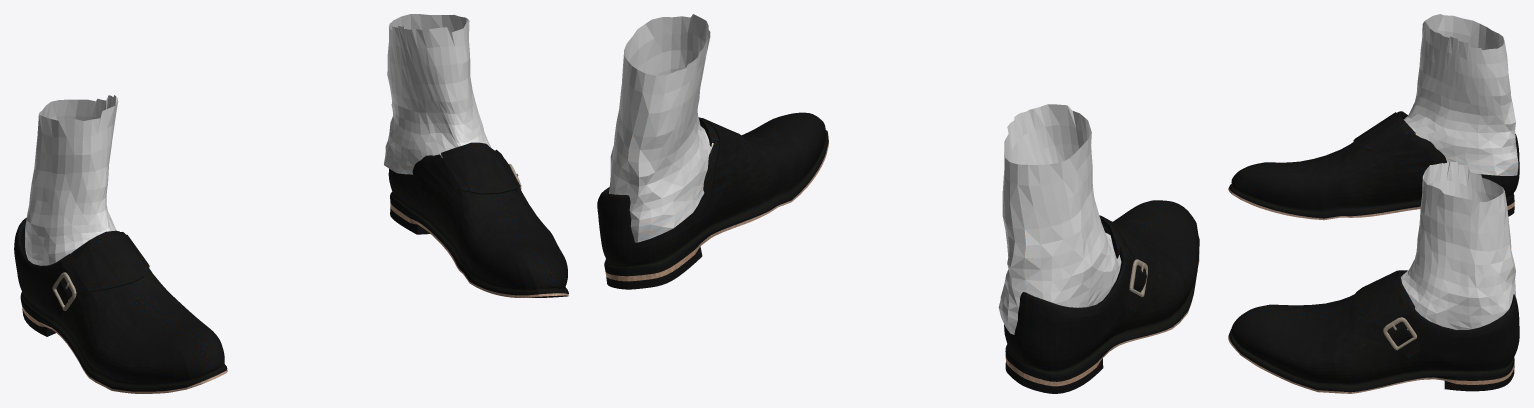
Rendered from mhw_mindfront_shoes_monk_strap_female.glb.
3 renders of one model, left to right at view 1: azimuth 30°, elevation 25°; view 2: azimuth 150°, elevation 25°; view 3: azimuth 270°, elevation 25°, orthographic. The views are drawn at different scales.
Visible parts, largest first — view 1: mhw_mindfront_shoes_monk_strap_female; view 2: mhw_mindfront_shoes_monk_strap_female; view 3: mhw_mindfront_shoes_monk_strap_female.
Boxes of the visible parts, x1,y1,x2,y2 form: mhw_mindfront_shoes_monk_strap_female: (14,14,568,393); mhw_mindfront_shoes_monk_strap_female: (597,14,1199,393); mhw_mindfront_shoes_monk_strap_female: (1228,14,1519,393).
Bounding box in the file's own units: 0.5315 × 0.2496 × 0.3275.
Materials: 1 (1 with a texture image).
